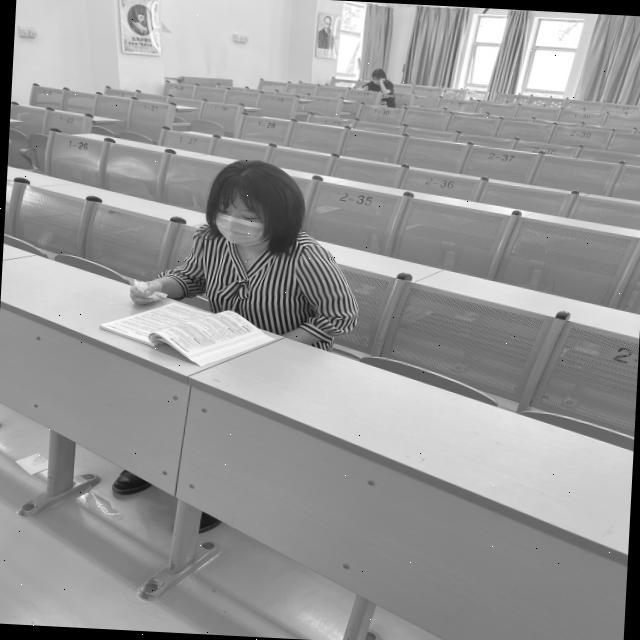study: (128, 151, 367, 340)
